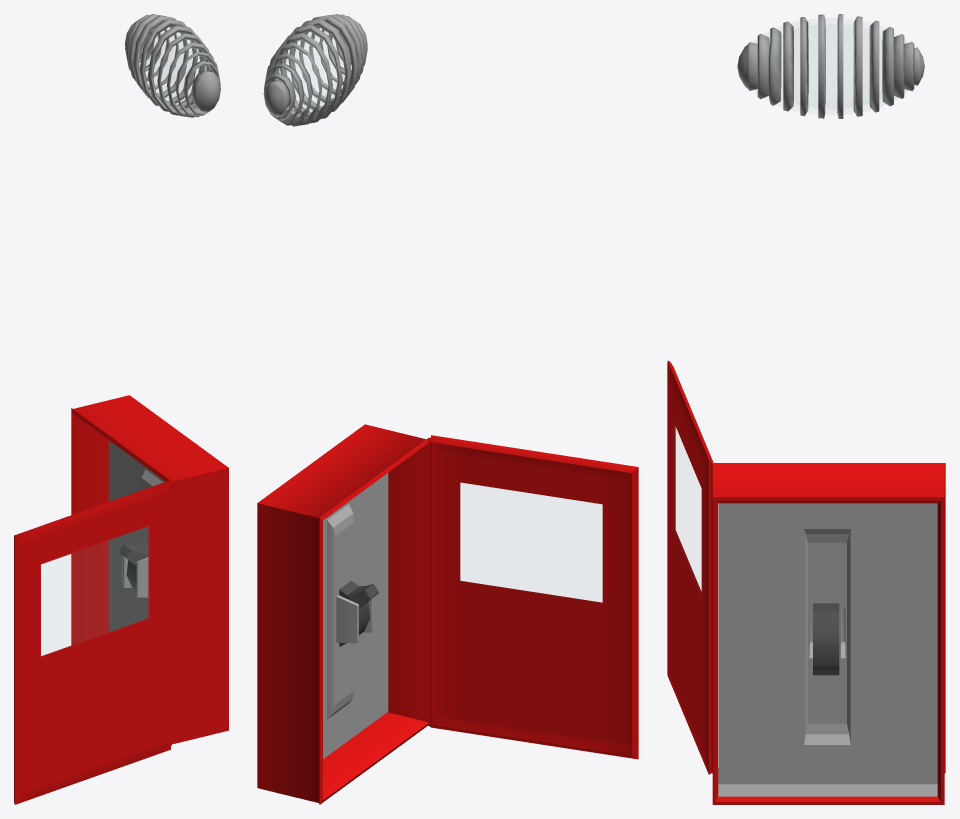
File: SwitchBox.fbx
The picture shows the model from 3 angles, left to right: view 1: azimuth 30°, elevation 25°; view 2: azimuth 150°, elevation 25°; view 3: azimuth 270°, elevation 25°; orthographic projection. The views are drawn at different scales.
Visible parts, largest first — view 1: PowerBox, RedLight, Switch; view 2: PowerBox, RedLight, Switch; view 3: PowerBox, RedLight, Switch.
Boxes of the visible parts, bbox=[...] form: PowerBox: bbox=[14, 395, 228, 804]; RedLight: bbox=[125, 14, 220, 117]; Switch: bbox=[119, 541, 148, 597]; PowerBox: bbox=[257, 424, 638, 804]; RedLight: bbox=[263, 14, 367, 126]; Switch: bbox=[339, 581, 378, 646]; PowerBox: bbox=[667, 360, 945, 804]; RedLight: bbox=[737, 14, 924, 118]; Switch: bbox=[813, 603, 839, 675].
Bounding box in the file's own units: 644 × 1622 × 518.
